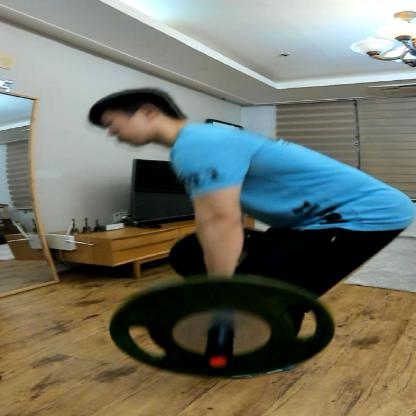Barbell: (99, 271, 346, 385)
